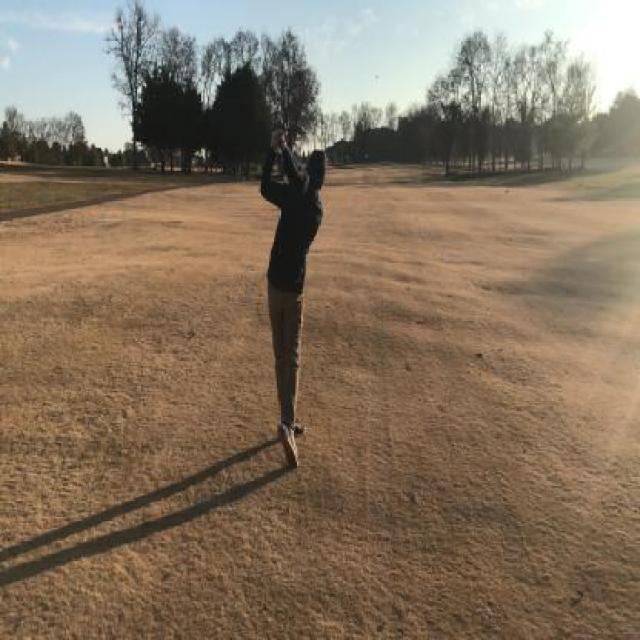club head: (302, 168, 309, 195)
